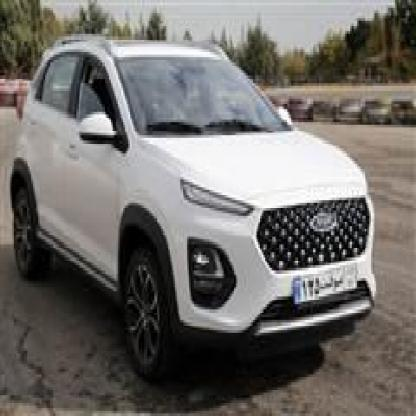Car: (9, 34, 378, 390)
